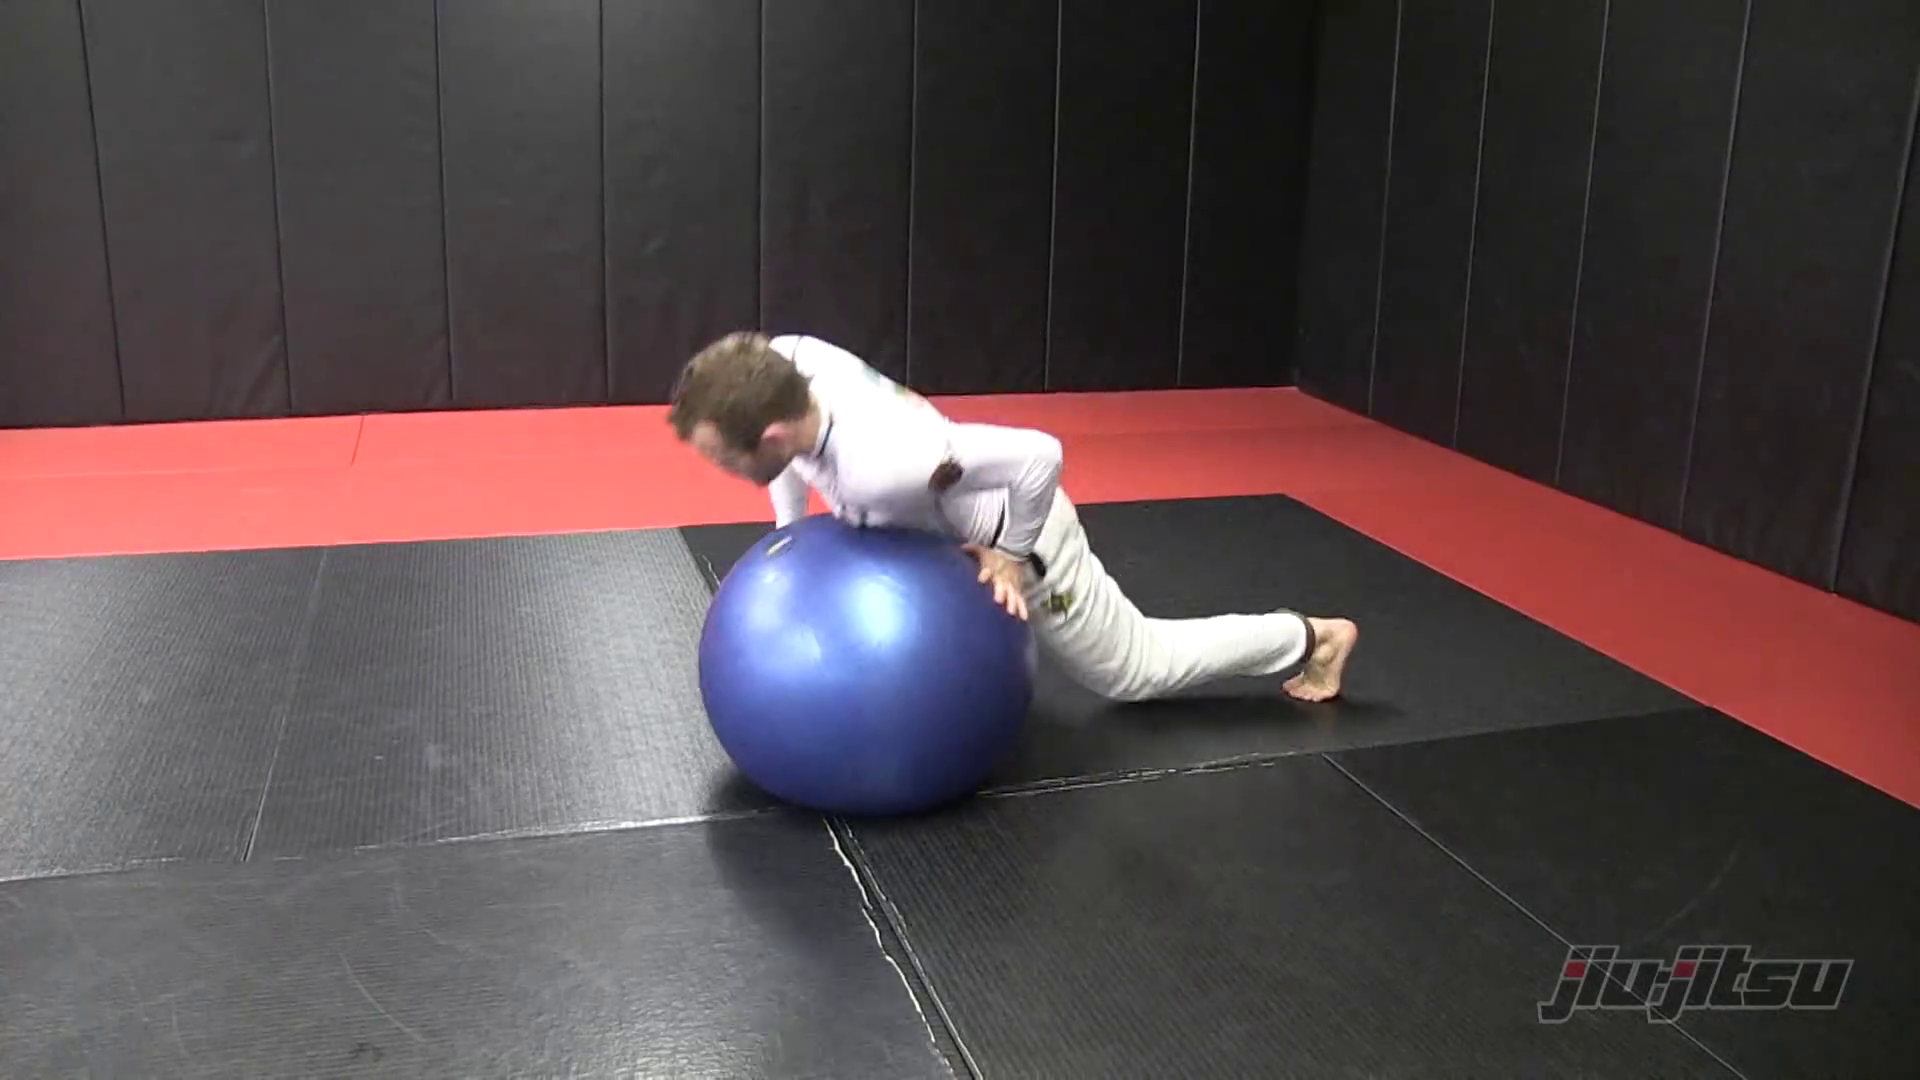yogaball: (680, 505, 1040, 827)
